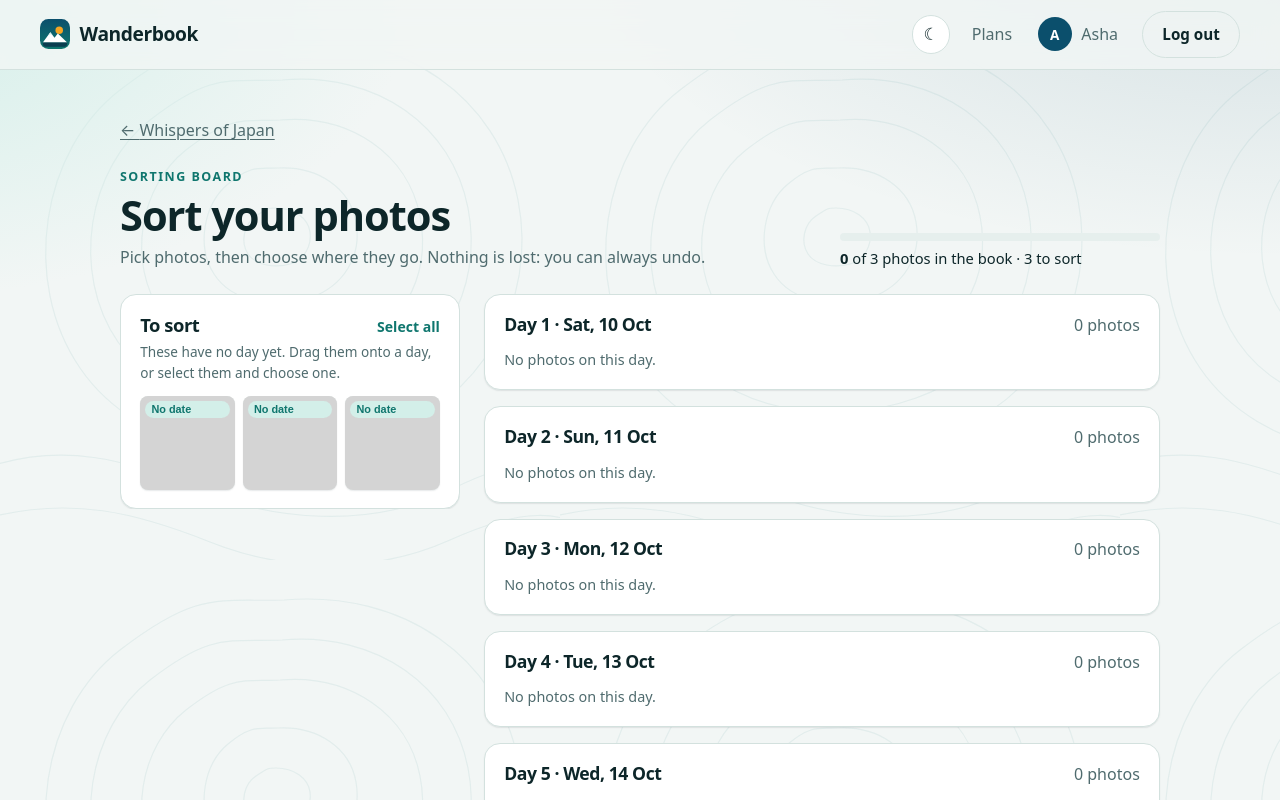
Test: moving photos, click first › selects a range with shift-click
What coordinates should you click on to do the following:
click the button with aria-label "a.jpg"
I would click on:
 (187, 443)
Its box is [140,396,235,490].
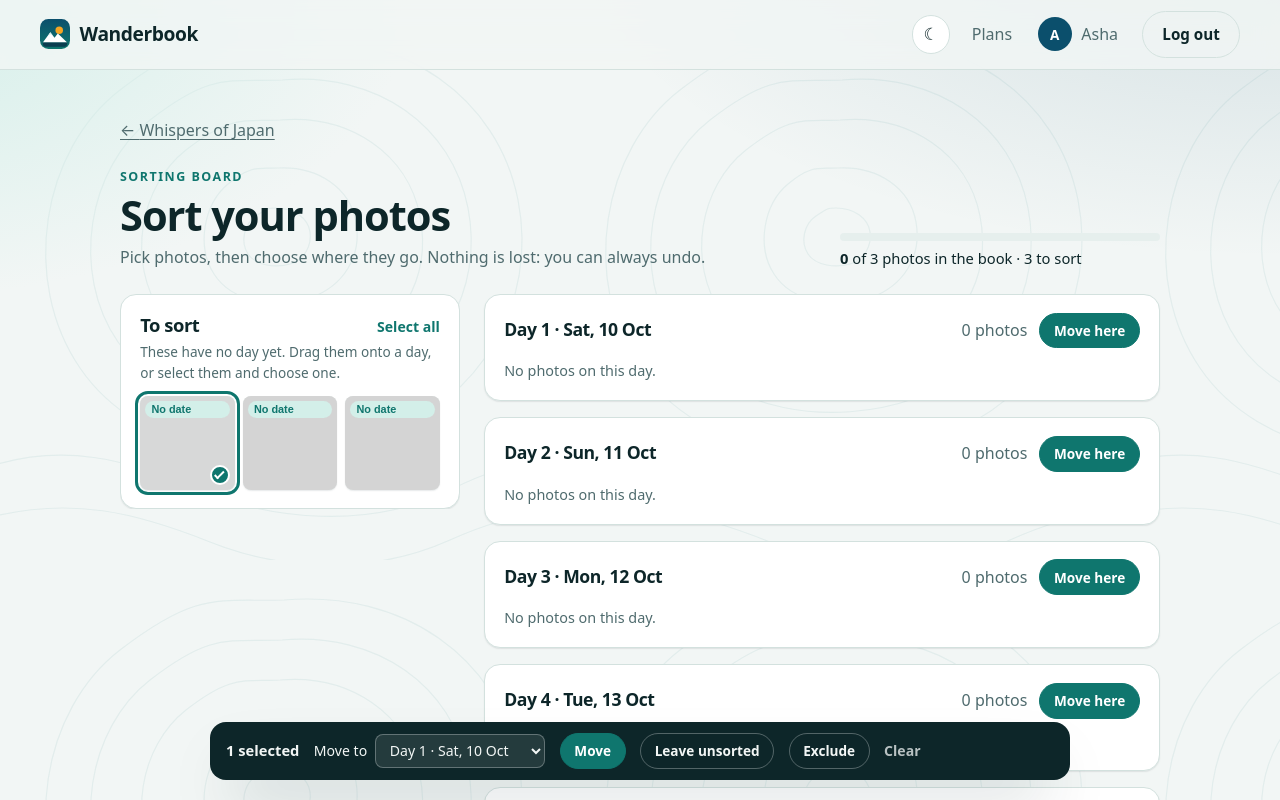
What coordinates should you click on to do the following:
click the button with aria-label "c.jpg"
I would click on:
 (393, 443)
Its box is [345,396,440,490].
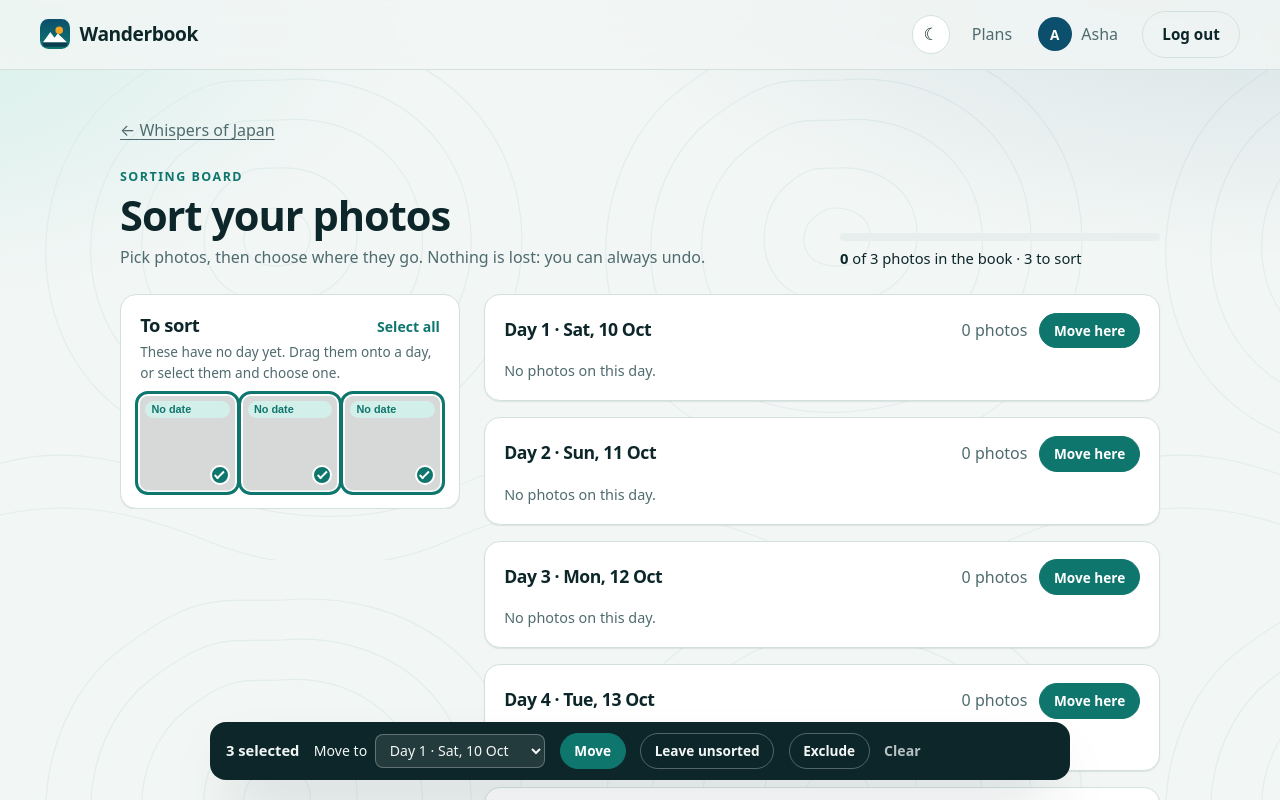
Now the text "3 selected" is shown, box [226,740,299,762]
